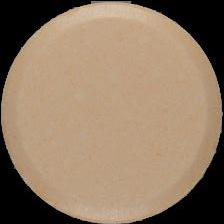51672-4025: (0, 0, 224, 224)
